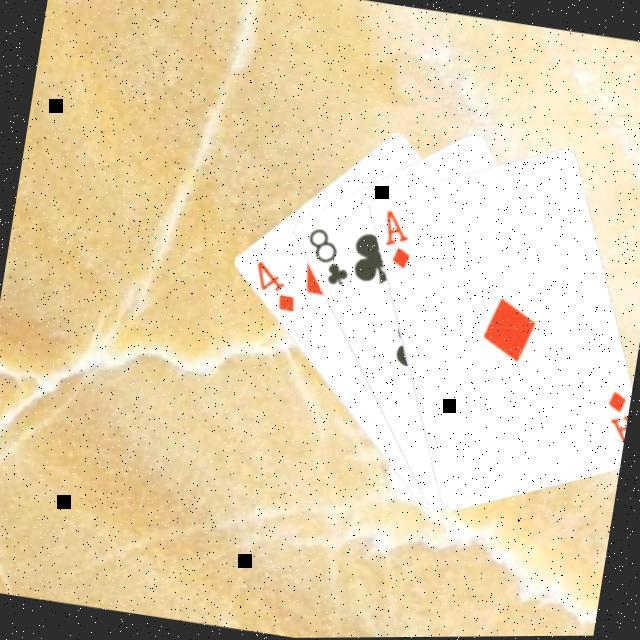4D: (247, 256, 304, 315)
8C: (298, 222, 359, 290)
AD: (375, 204, 421, 273), (598, 386, 632, 452)
